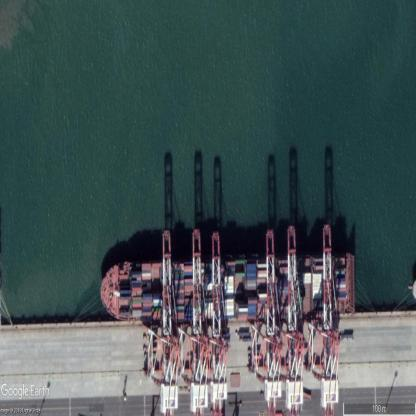ship: (101, 253, 353, 316)
